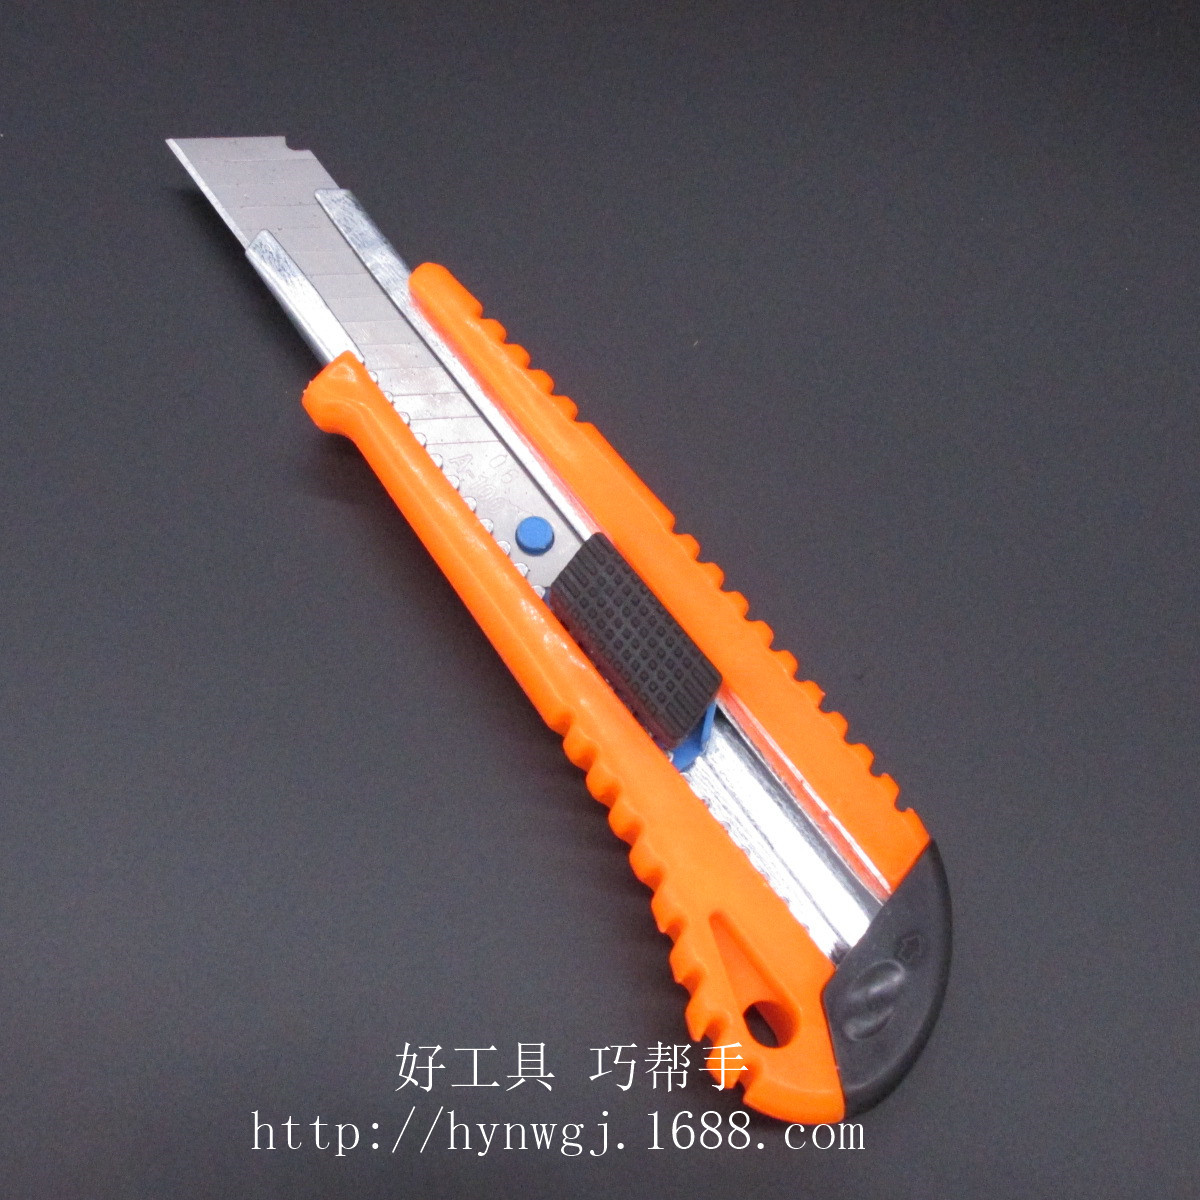cutter: (162, 133, 953, 1131)
